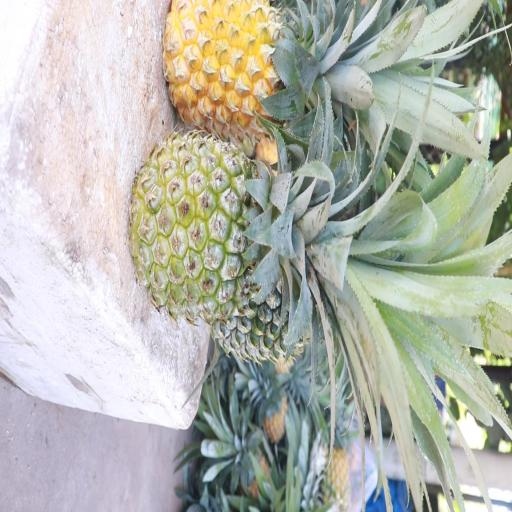------------------------------: (134, 127, 294, 312)
Pineapple - v8 v1: (162, 0, 317, 132)
